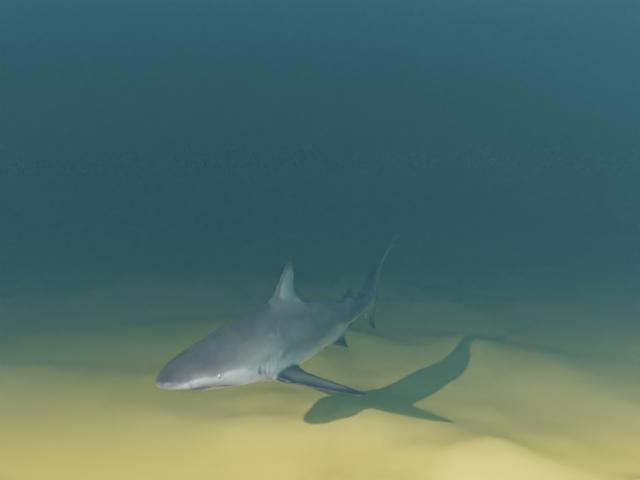Carribean Shark.001: (155, 233, 400, 395)
